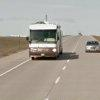Bus: (22, 19, 65, 62)
